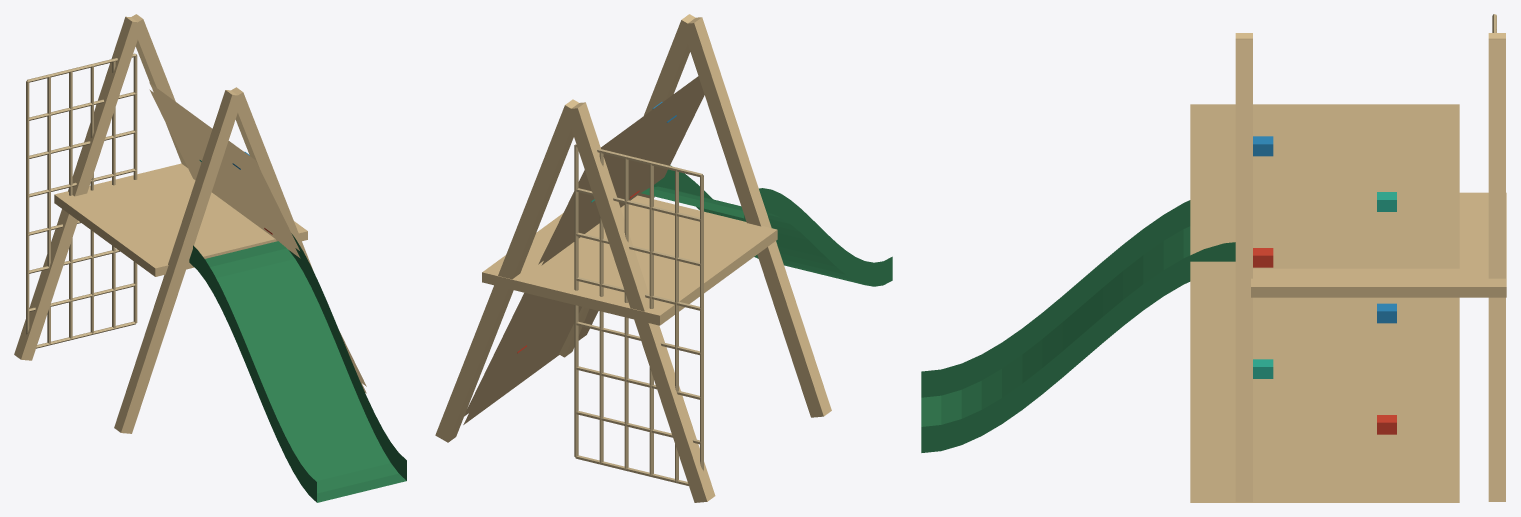
The picture shows the model from 3 angles, left to right: view 1: azimuth 30°, elevation 25°; view 2: azimuth 150°, elevation 25°; view 3: azimuth 270°, elevation 25°; orthographic projection. The views are drawn at different scales.
Parts seen in each view (by area): view 1: SW-Y303; view 2: SW-Y303; view 3: SW-Y303.
Boxes of the visible parts, x1,y1,x2,y2 form: SW-Y303: (14,14,406,502); SW-Y303: (435,14,892,502); SW-Y303: (921,14,1506,502).
Bounding box in the file's own units: 1.4 × 1.8 × 2.4.
